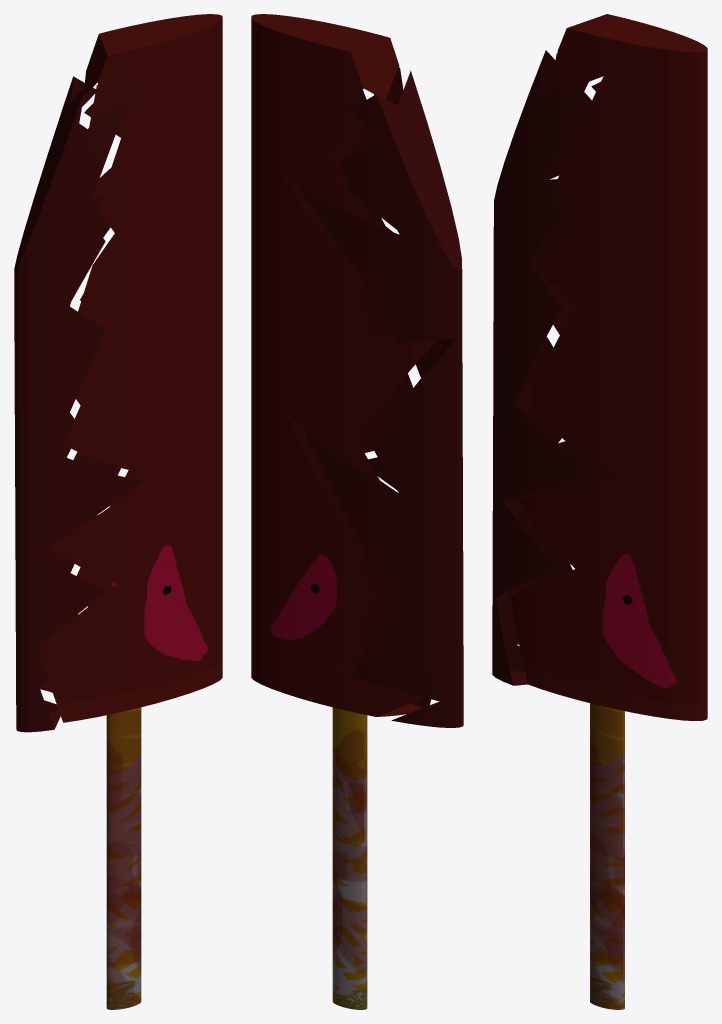
The model's file is sword.dae.
3 renders of one model, left to right at view 1: azimuth 30°, elevation 25°; view 2: azimuth 150°, elevation 25°; view 3: azimuth 330°, elevation 25°, orthographic.
Parts seen in each view (by area): view 1: Cylinder.001, Cylinder.002; view 2: Cylinder.001, Cylinder.002; view 3: Cylinder.001, Cylinder.002.
Part boxes in pixels (bbox=[...]): Cylinder.001: bbox=[38, 14, 222, 1009]; Cylinder.002: bbox=[14, 76, 144, 732]; Cylinder.001: bbox=[251, 14, 437, 1009]; Cylinder.002: bbox=[298, 70, 463, 727]; Cylinder.001: bbox=[510, 14, 707, 1009]; Cylinder.002: bbox=[492, 50, 613, 685].
Size of the model in its own units: 1.32 by 0.2944 by 5.83.
Materials: 2 (2 with a texture image).
